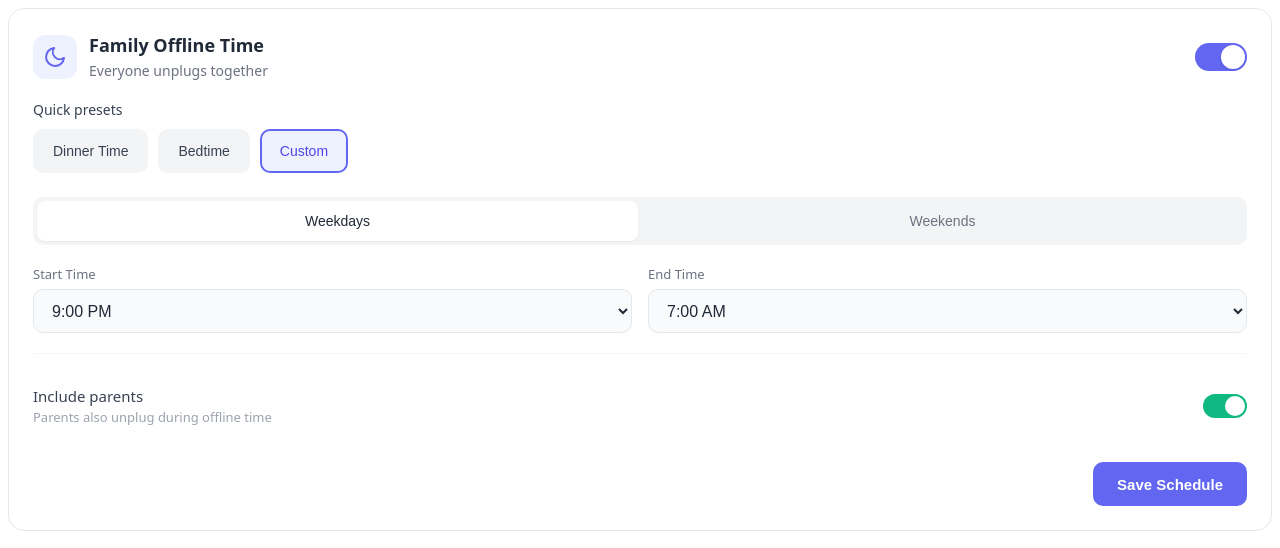
Scenario: OfflineScheduleCard - Story 32.1 › Save functionality › shows success state after save
Click the button with test id "save-button".
click(1170, 484)  # box [1093, 462, 1247, 506]
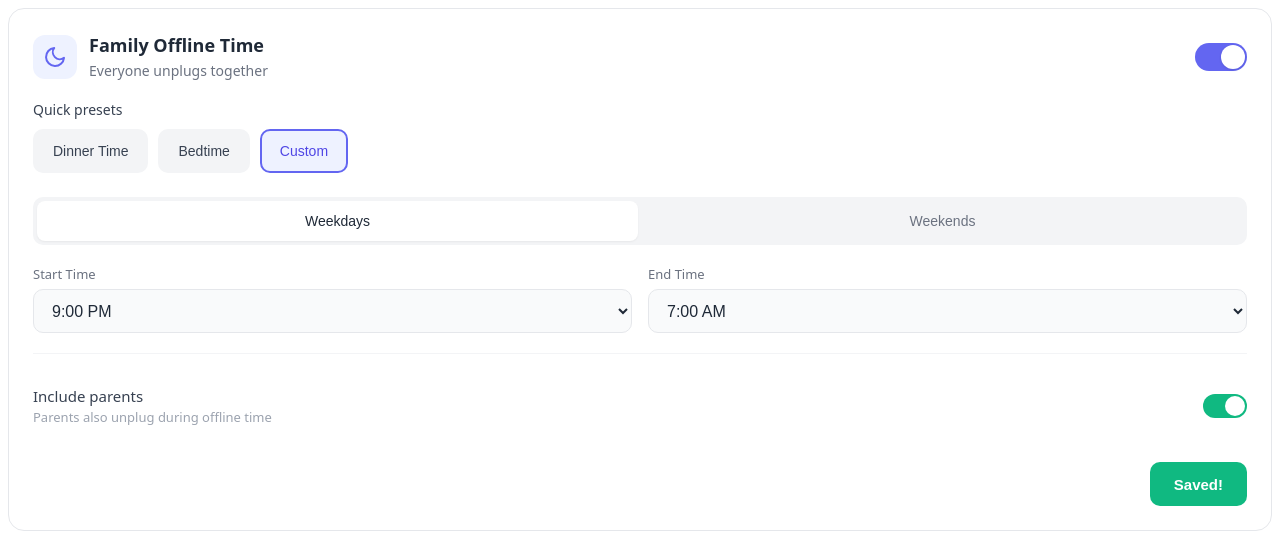
Now the button "Saved!" is shown, box [1150, 462, 1247, 506]
